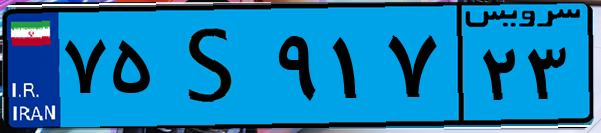1: (330, 28, 385, 110)
2: (475, 38, 525, 113)
3: (525, 38, 570, 115)
5: (110, 28, 158, 98)
7: (385, 28, 445, 110), (57, 26, 110, 100)
9: (270, 28, 330, 110)
S: (158, 12, 270, 120)
